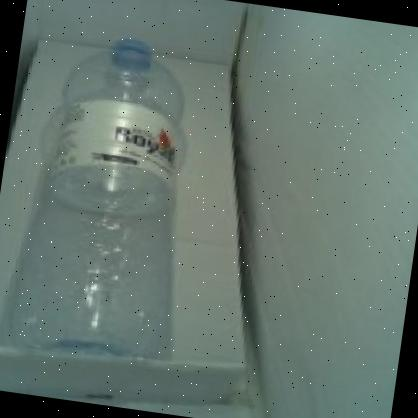bottle: (3, 17, 231, 376)
label: (46, 98, 188, 178)
